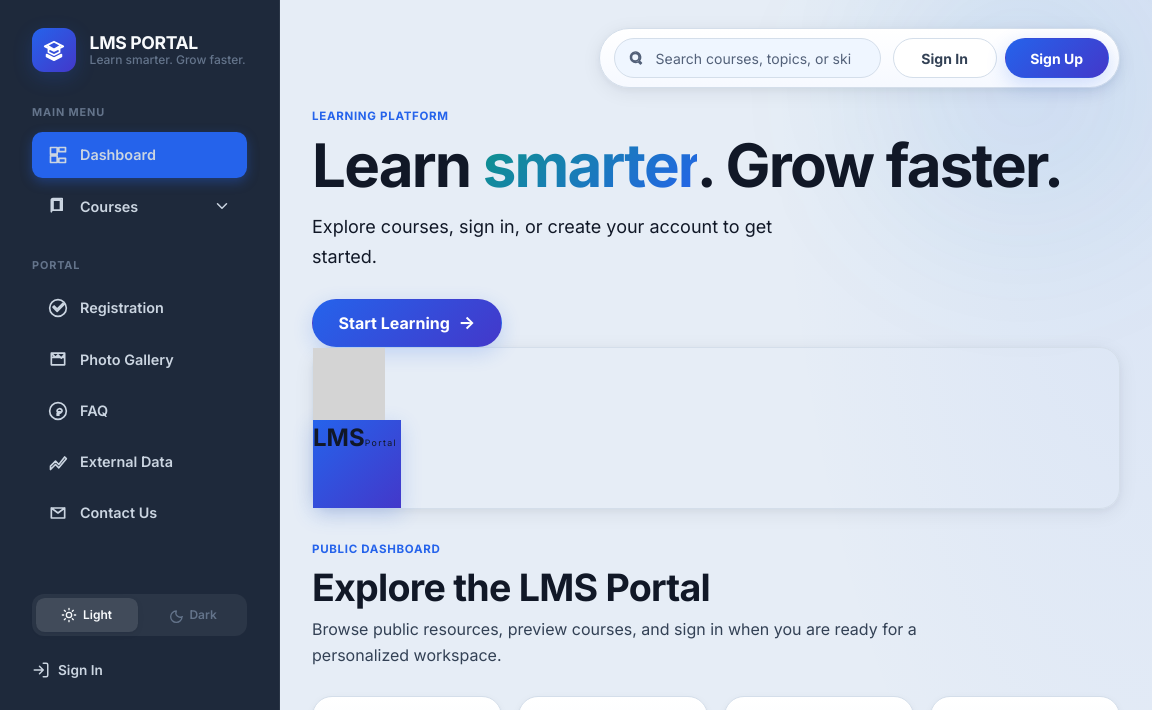
Test case: renders course stack submenus when Courses is expanded
The width and height of the screenshot is (1152, 710).
Click the button "Courses": coordinates (140, 206) x1=32 y1=184 x2=247 y2=229
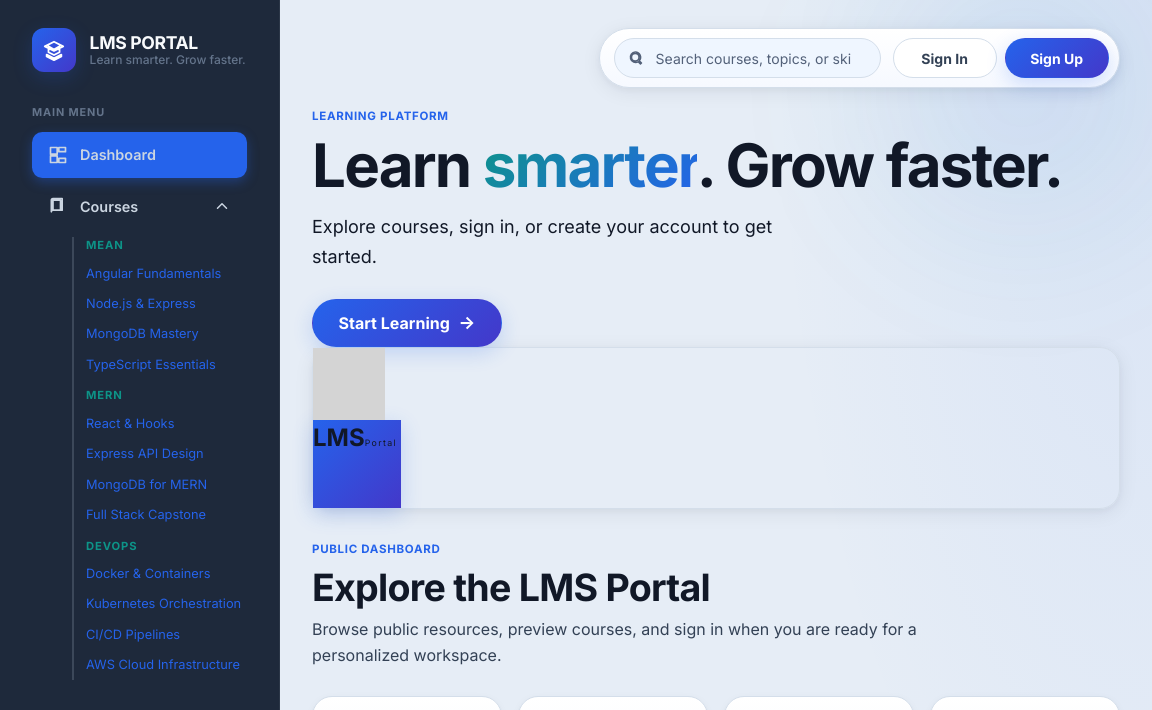
Check: the text "MEAN" is shown, box x1=86 y1=238 x2=124 y2=252
Check: the link "Angular Fundamentals" is shown, box x1=86 y1=266 x2=221 y2=280
Check: the link "Node.js & Express" is shown, box x1=86 y1=296 x2=196 y2=311
